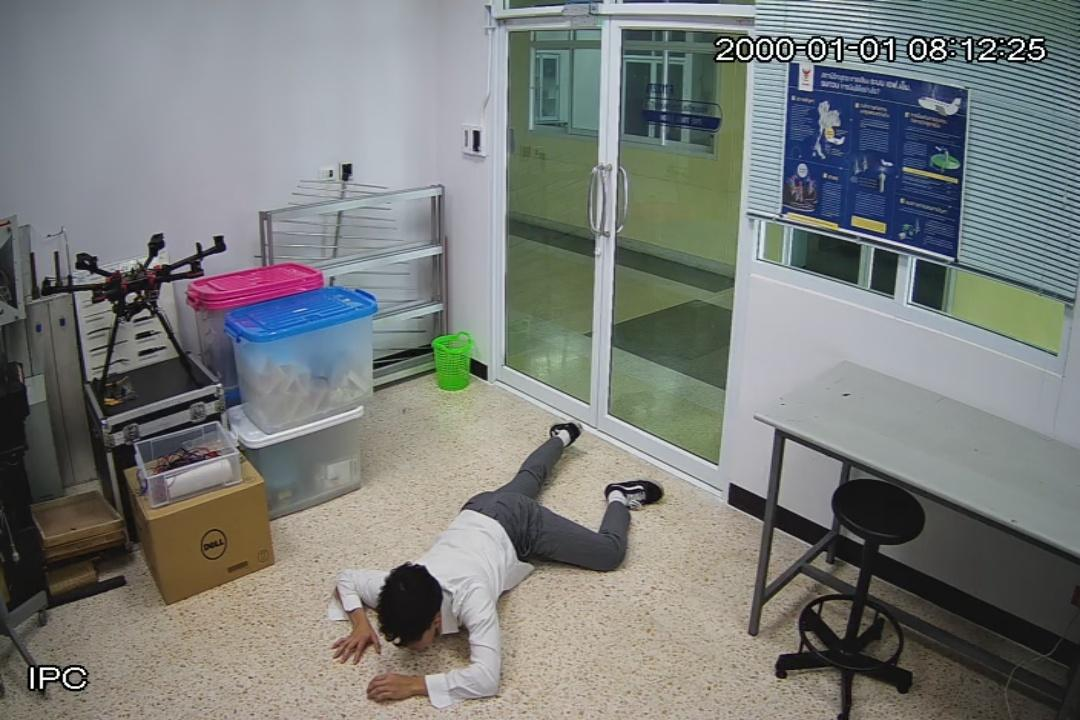fall: (329, 418, 671, 709)
